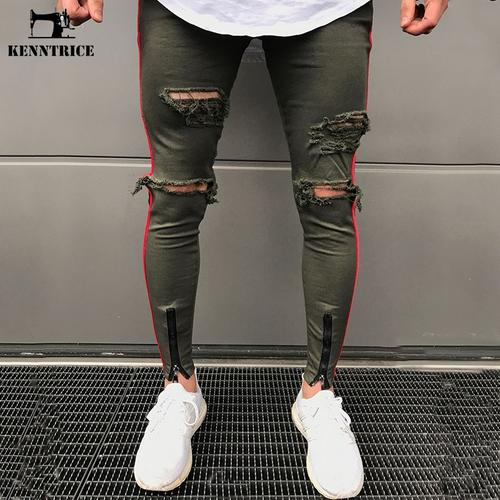Jeans: (129, 1, 381, 393)
